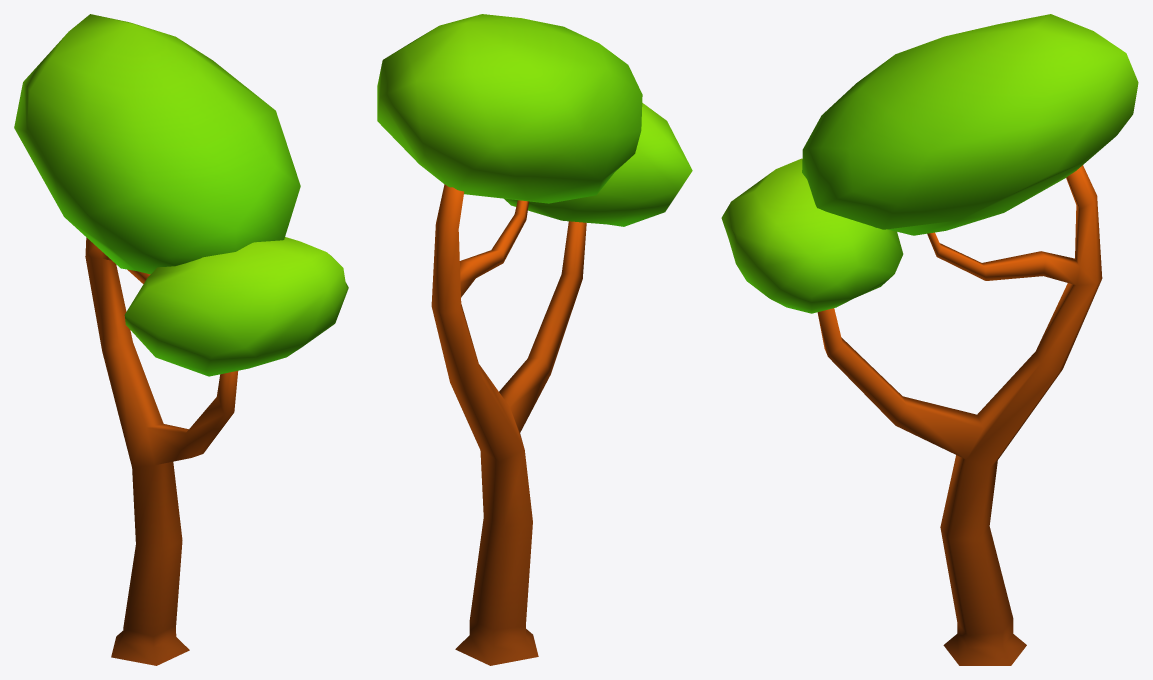
Rendered from LemonTree.fbx.
3 renders of one model, left to right at view 1: azimuth 30°, elevation 25°; view 2: azimuth 150°, elevation 25°; view 3: azimuth 270°, elevation 25°, orthographic. The views are drawn at different scales.
Parts seen in each view (by area): view 1: LemonTree; view 2: LemonTree; view 3: LemonTree.
Part boxes in pixels (x1,y1,x2,y2): LemonTree: (14,14,348,665); LemonTree: (377,14,692,665); LemonTree: (721,14,1138,665).
Size of the model in its own units: 265 by 724 by 437.
